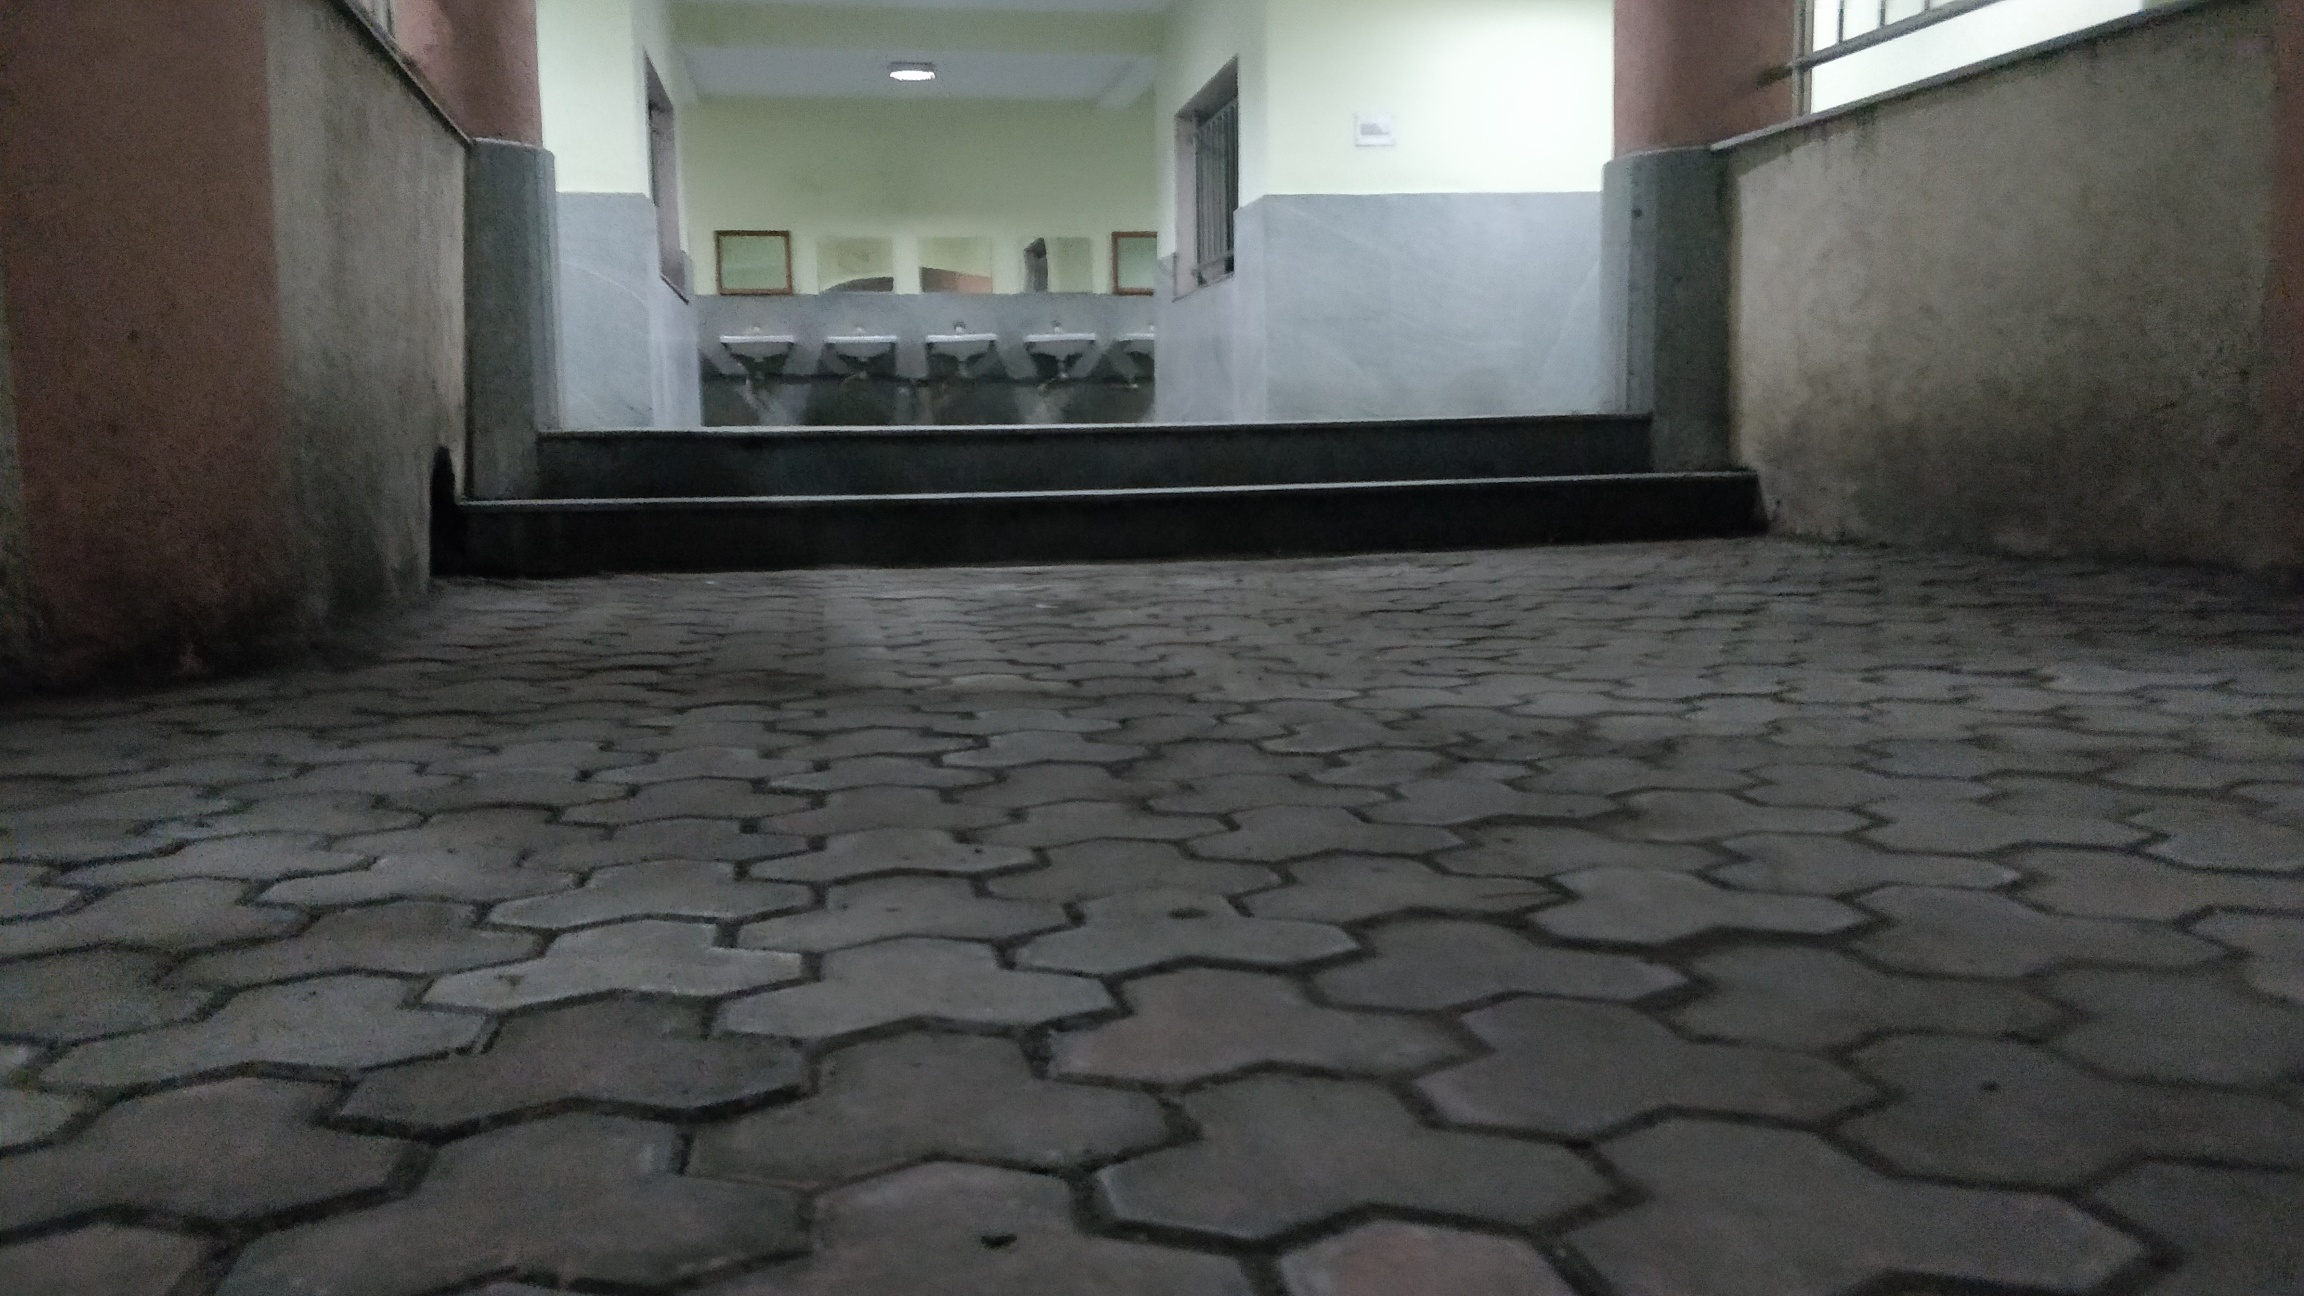stairs_up: (448, 418, 1780, 560)
